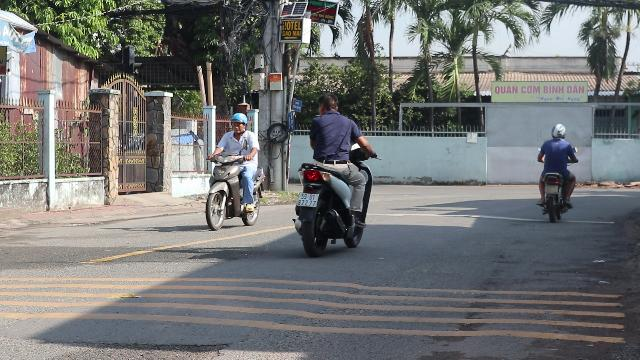helmet: (229, 112, 247, 134)
licenseplate: (297, 193, 319, 207)
motorcyclist: (291, 92, 375, 256), (202, 112, 264, 230)
nohelmet: (316, 94, 338, 116)
